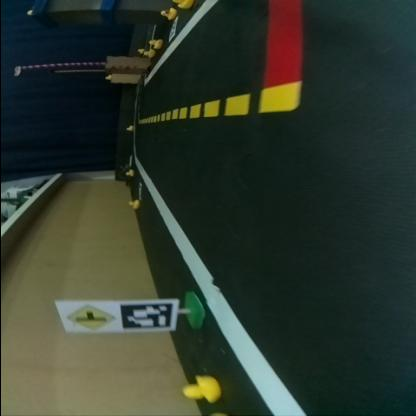Duckie: (182, 376, 218, 402), (160, 9, 176, 18), (148, 41, 160, 47), (125, 169, 132, 175), (125, 125, 132, 130), (128, 201, 135, 205), (143, 50, 149, 54)
Intersection sign: (64, 303, 112, 330)
QR code: (118, 301, 172, 329), (167, 18, 175, 40), (135, 182, 141, 200)
